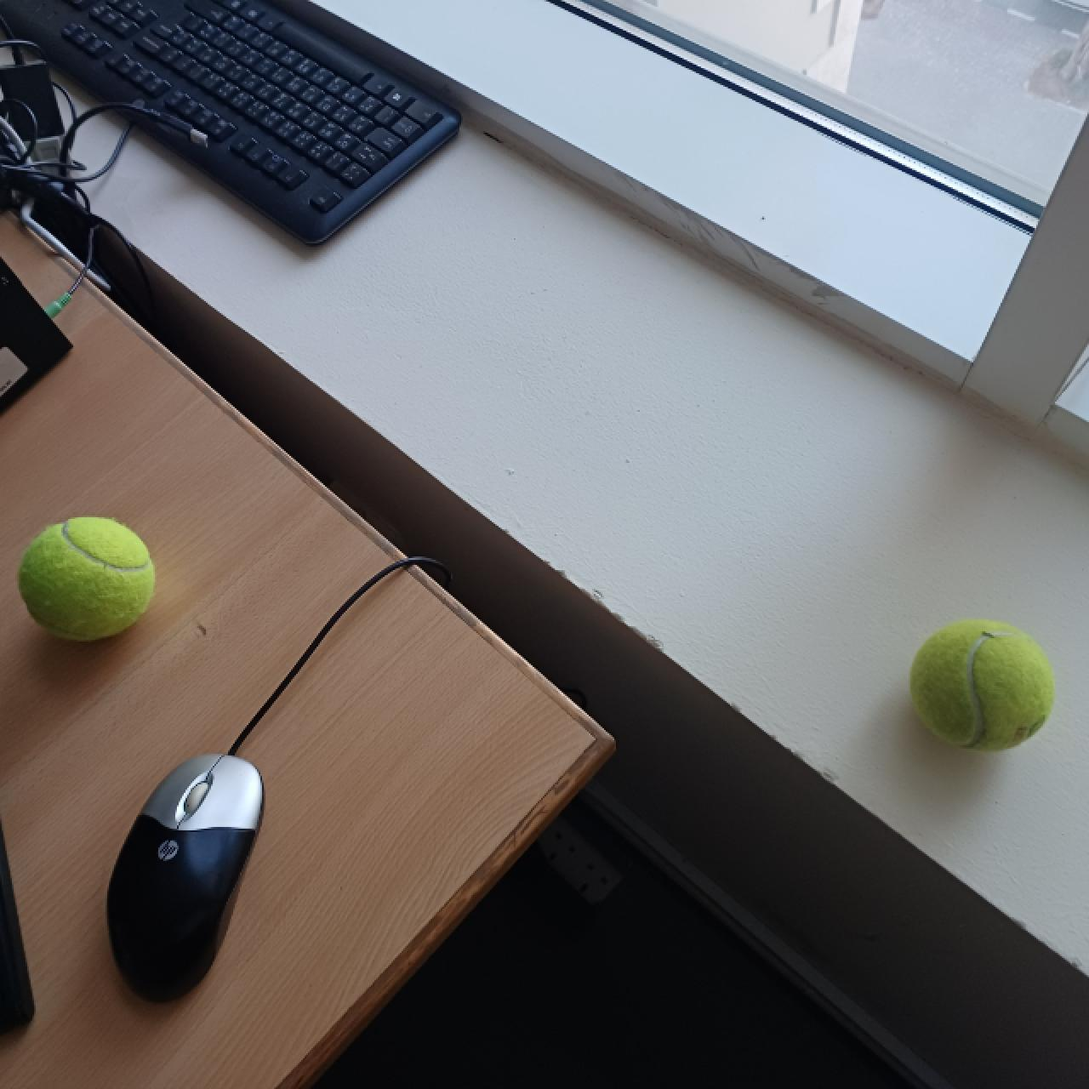tennis-ball: (906, 619, 1055, 754), (18, 513, 156, 640)
